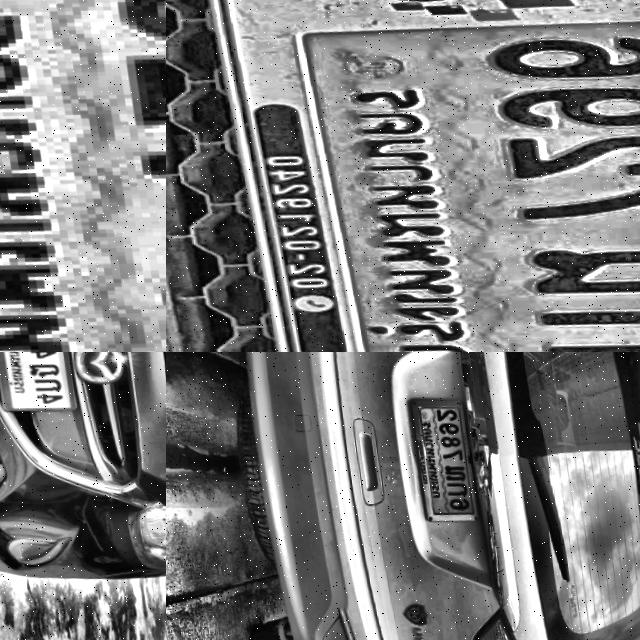license-plate: (188, 0, 640, 352), (0, 0, 166, 352), (404, 381, 486, 525), (0, 352, 81, 415)
